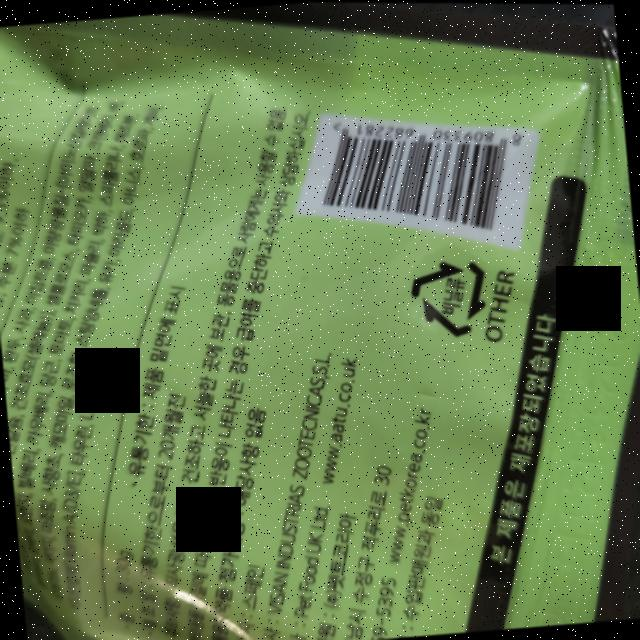Vinyl: (404, 253, 487, 337)
